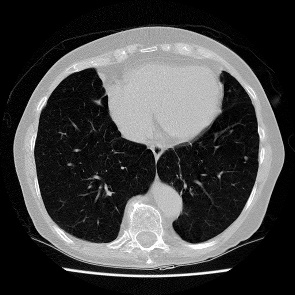PN: (244, 156, 248, 160)
